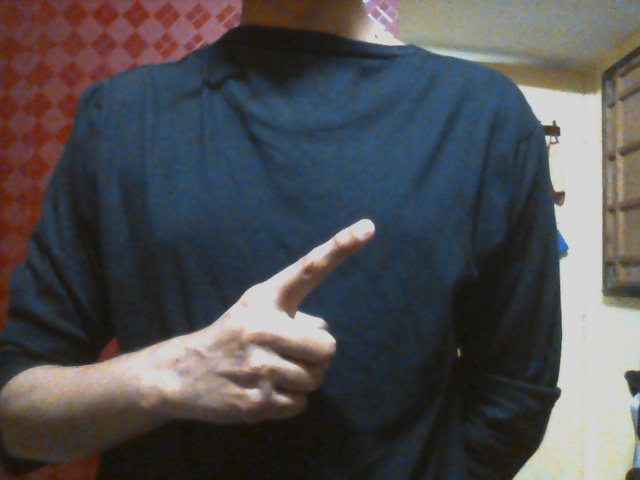I: (188, 217, 377, 426)
